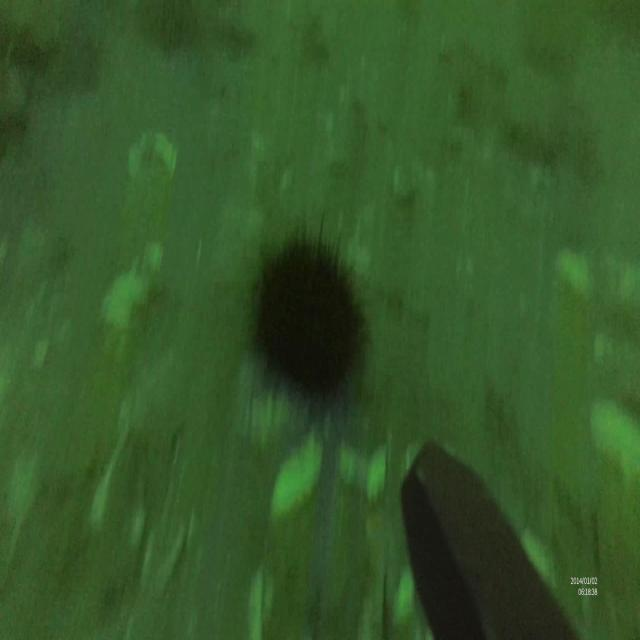echinus: (238, 215, 375, 418)
